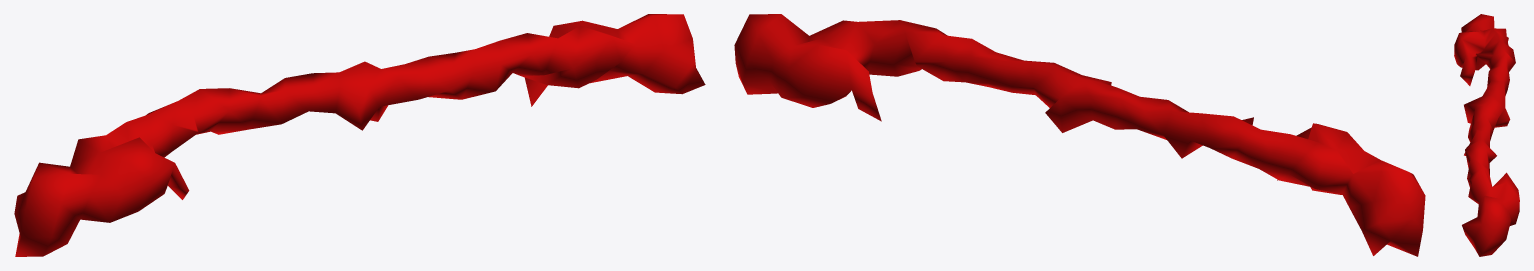
The model's file is fibrinogen_LOD3.fbx.
The picture shows the model from 3 angles, left to right: view 1: azimuth 30°, elevation 25°; view 2: azimuth 150°, elevation 25°; view 3: azimuth 270°, elevation 25°; orthographic projection. The views are drawn at different scales.
Parts seen in each view (by area): view 1: Fibrinogen_LOD2; view 2: Fibrinogen_LOD2; view 3: Fibrinogen_LOD2.
Boxes of the visible parts, x1,y1,x2,y2 form: Fibrinogen_LOD2: (14, 14, 705, 256); Fibrinogen_LOD2: (734, 14, 1425, 256); Fibrinogen_LOD2: (1454, 14, 1519, 256).
Size of the model in its own units: 456 by 67.97 by 61.91.
